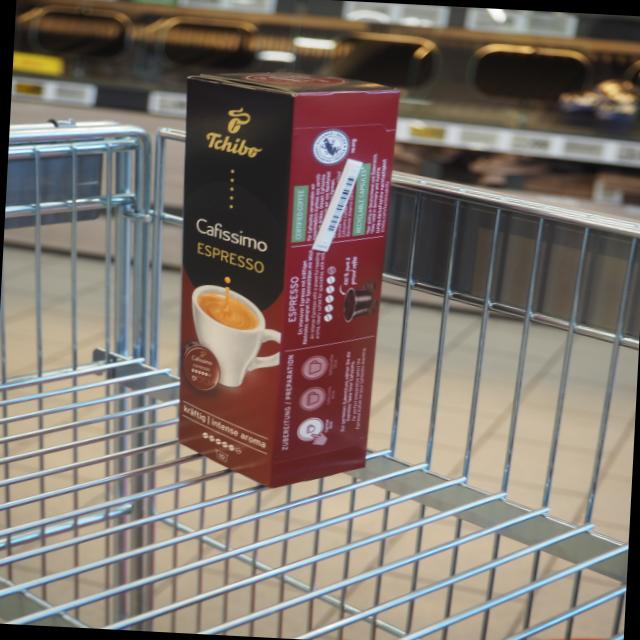Simo Es Kraft: (172, 68, 293, 494)
